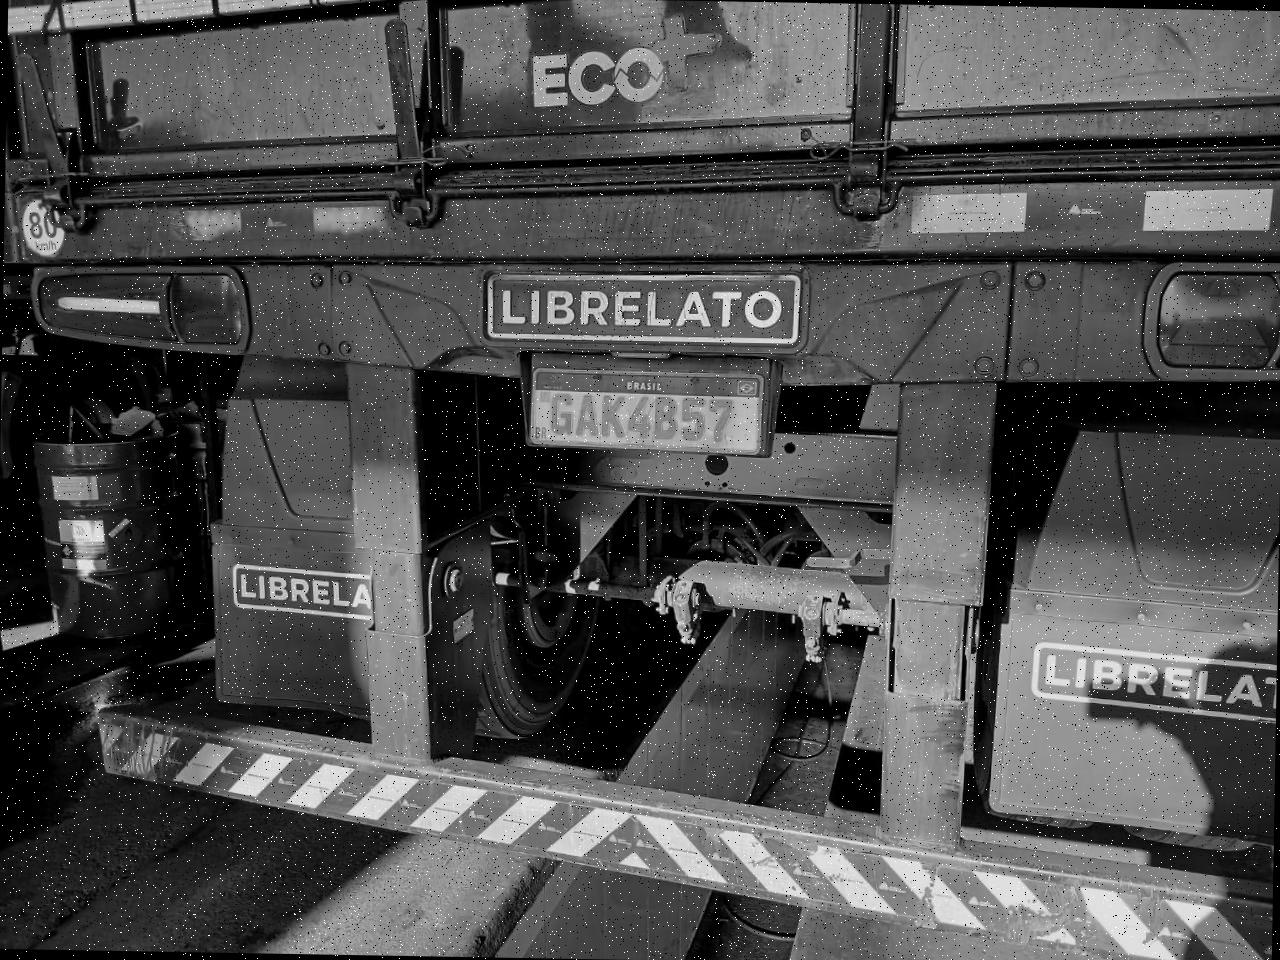placa_mercosul: (531, 364, 761, 460)
